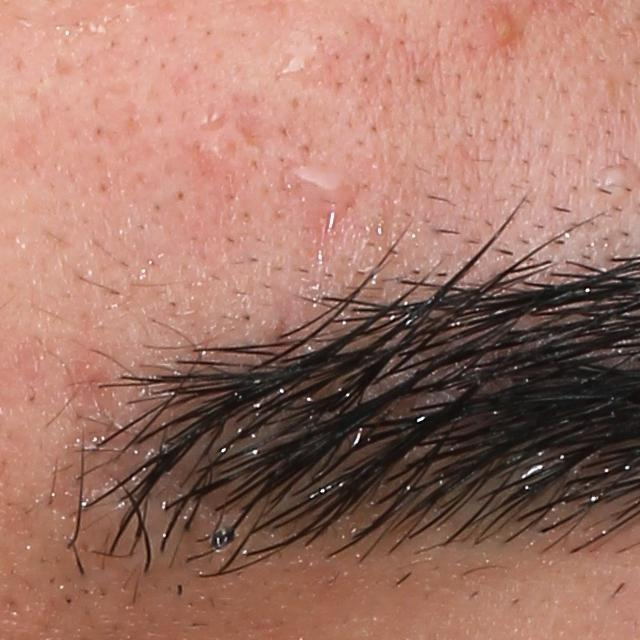pustule: (488, 6, 521, 47)
